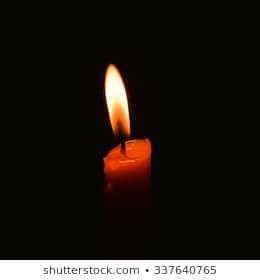fire: (102, 60, 133, 136)
